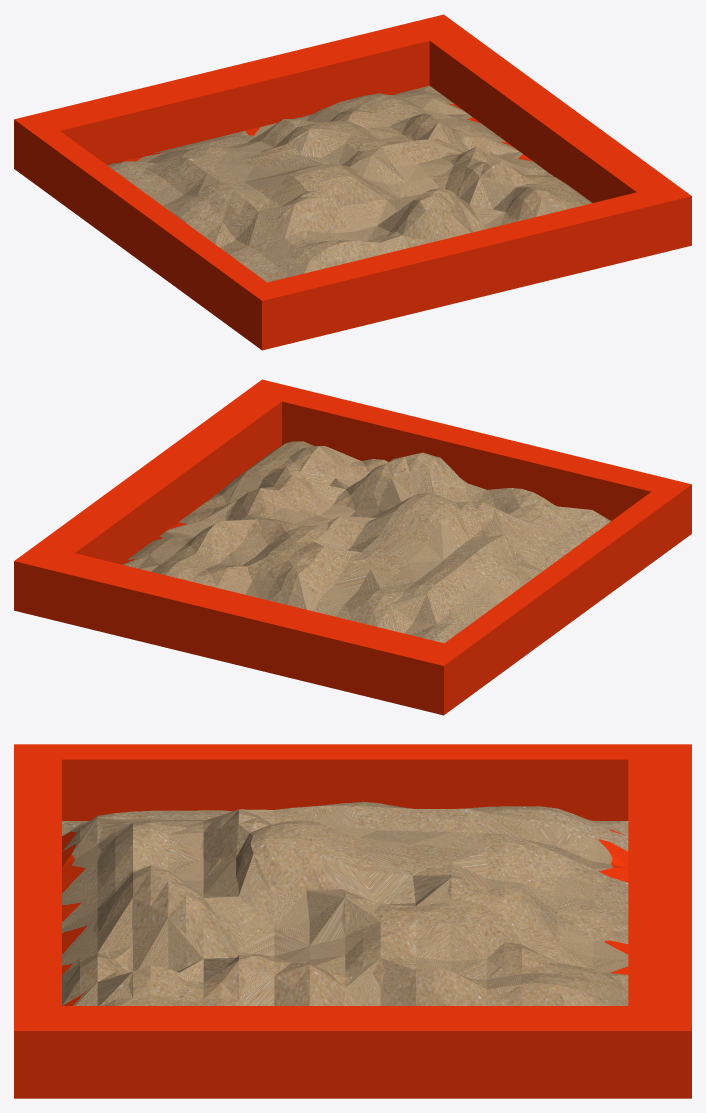
Rendered from cajadearena.FBX.
The picture shows the model from 3 angles, top to bottom: view 1: azimuth 30°, elevation 25°; view 2: azimuth 150°, elevation 25°; view 3: azimuth 270°, elevation 25°; orthographic projection. The views are drawn at different scales.
Parts seen in each view (by area): view 1: Box001; view 2: Box001; view 3: Box001.
Part boxes in pixels (x1,y1,x2,y2): Box001: (14, 14, 691, 350); Box001: (14, 379, 691, 715); Box001: (14, 744, 691, 1098).
Size of the model in its own units: 200 by 28.7 by 200.
